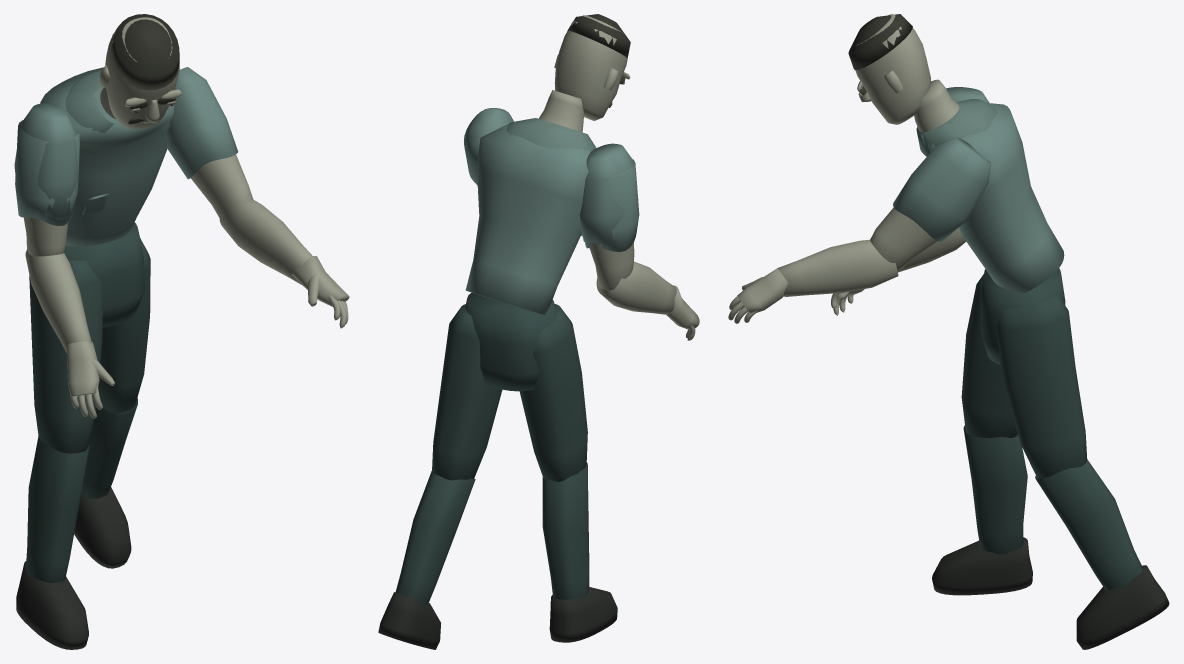
The model's file is enemy-lab-runner.glb.
3 renders of one model, left to right at view 1: azimuth 30°, elevation 25°; view 2: azimuth 150°, elevation 25°; view 3: azimuth 270°, elevation 25°, orthographic. The views are drawn at different scales.
Parts seen in each view (by area): view 1: Chest, Trouser thigh_L, Trouser shin_L, Short sleeve_R, Trouser thigh_R, Waist, Disordered cropped hair, Short sleeve_L, Shoe_L, Forearm anatomy_R, Forearm anatomy_L, Shoe_R (+8 smaller); view 2: Chest, Trouser thigh_L, Trouser thigh_R, Waist, Trouser shin_R, Trouser shin_L, Anatomical head, Short sleeve_L, Shoe_L, Forearm anatomy_L, Shoe_R, Torn scrub sleeve (+6 smaller); view 3: Trouser thigh_R, Chest, Trouser shin_R, Short sleeve_R, Trouser shin_L, Trouser thigh_L, Forearm anatomy_R, Anatomical head, Shoe_L, Shoe_R, Waist, Upper arm_R (+5 smaller).
Boxes of the visible parts, bbox=[...] form: Chest: bbox=[40, 67, 174, 246]; Trouser thigh_L: bbox=[29, 260, 102, 453]; Trouser shin_L: bbox=[26, 436, 89, 582]; Short sleeve_R: bbox=[167, 67, 238, 179]; Trouser thigh_R: bbox=[98, 238, 150, 412]; Waist: bbox=[64, 222, 144, 327]; Disordered cropped hair: bbox=[109, 14, 179, 90]; Short sleeve_L: bbox=[14, 103, 77, 217]; Shoe_L: bbox=[16, 561, 88, 649]; Forearm anatomy_R: bbox=[219, 199, 312, 284]; Forearm anatomy_L: bbox=[25, 249, 92, 353]; Shoe_R: bbox=[74, 487, 131, 568]; Chest: bbox=[465, 118, 591, 314]; Trouser thigh_L: bbox=[519, 304, 587, 481]; Trouser thigh_R: bbox=[432, 304, 502, 480]; Waist: bbox=[465, 292, 556, 391]; Trouser shin_R: bbox=[395, 471, 475, 604]; Trouser shin_L: bbox=[542, 462, 589, 599]; Anatomical head: bbox=[554, 15, 627, 120]; Short sleeve_L: bbox=[579, 143, 638, 245]; Shoe_L: bbox=[549, 587, 617, 642]; Forearm anatomy_L: bbox=[596, 261, 676, 314]; Shoe_R: bbox=[378, 592, 440, 649]; Torn scrub sleeve: bbox=[585, 159, 639, 252]; Trouser thigh_R: bbox=[995, 294, 1087, 478]; Chest: bbox=[916, 102, 1064, 292]; Trouser shin_R: bbox=[1035, 459, 1143, 590]; Short sleeve_R: bbox=[893, 137, 991, 241]; Trouser shin_L: bbox=[963, 425, 1027, 554]; Trouser thigh_L: bbox=[961, 274, 1017, 437]; Forearm anatomy_R: bbox=[778, 239, 898, 296]; Anatomical head: bbox=[854, 14, 930, 124]; Shoe_L: bbox=[932, 537, 1032, 595]; Shoe_R: bbox=[1076, 565, 1169, 649]; Waist: bbox=[980, 268, 1065, 364]; Upper arm_R: bbox=[870, 207, 936, 272].
Size of the model in its own units: 0.588 by 1.62 by 1.09.
